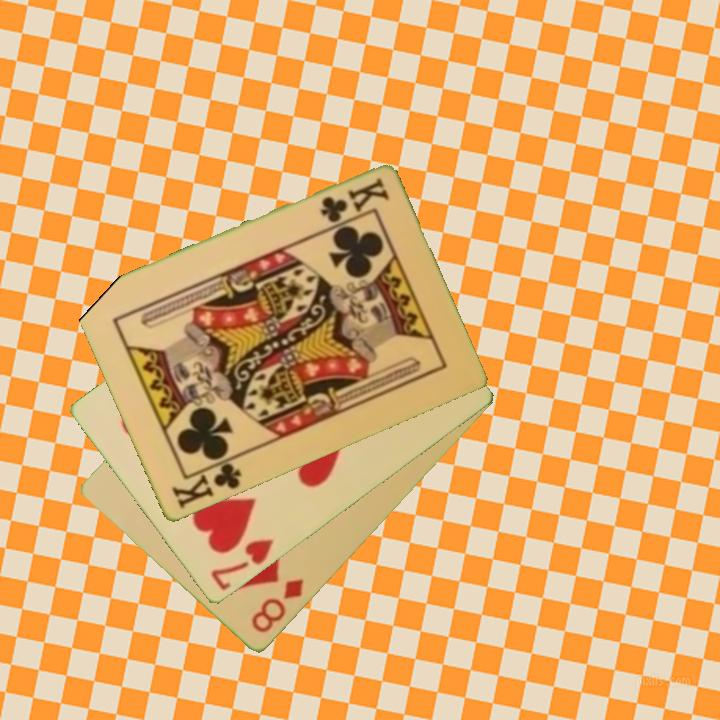7h: (207, 535, 277, 595)
8d: (247, 575, 307, 637)
Kc: (168, 453, 244, 512), (316, 174, 392, 226)
